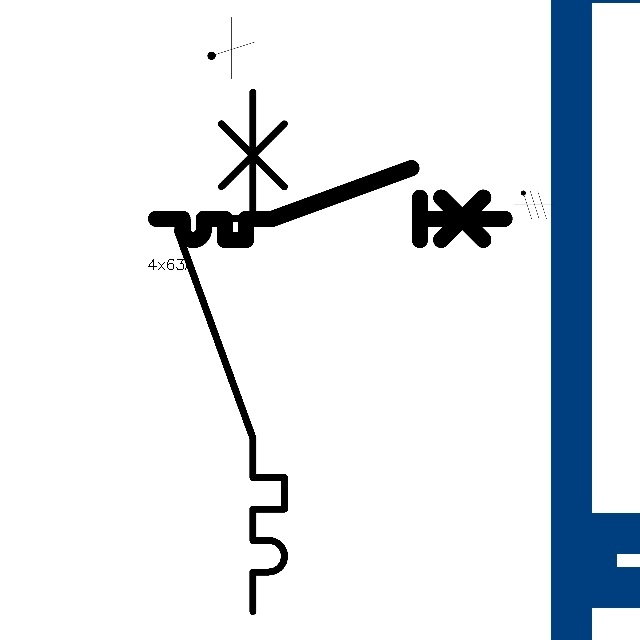interruptor_termomagnetico: (164, 78, 298, 624), (147, 159, 514, 249)
